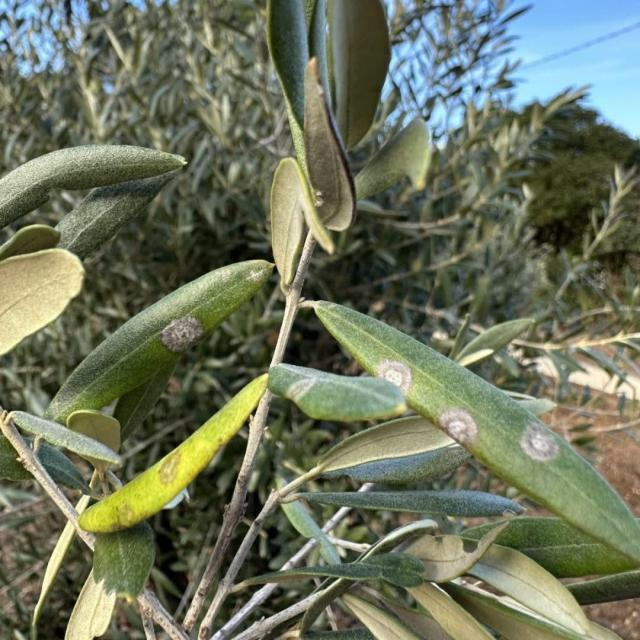OlivePeacockSpot: (314, 301, 639, 565), (45, 260, 274, 424), (79, 374, 267, 533)
